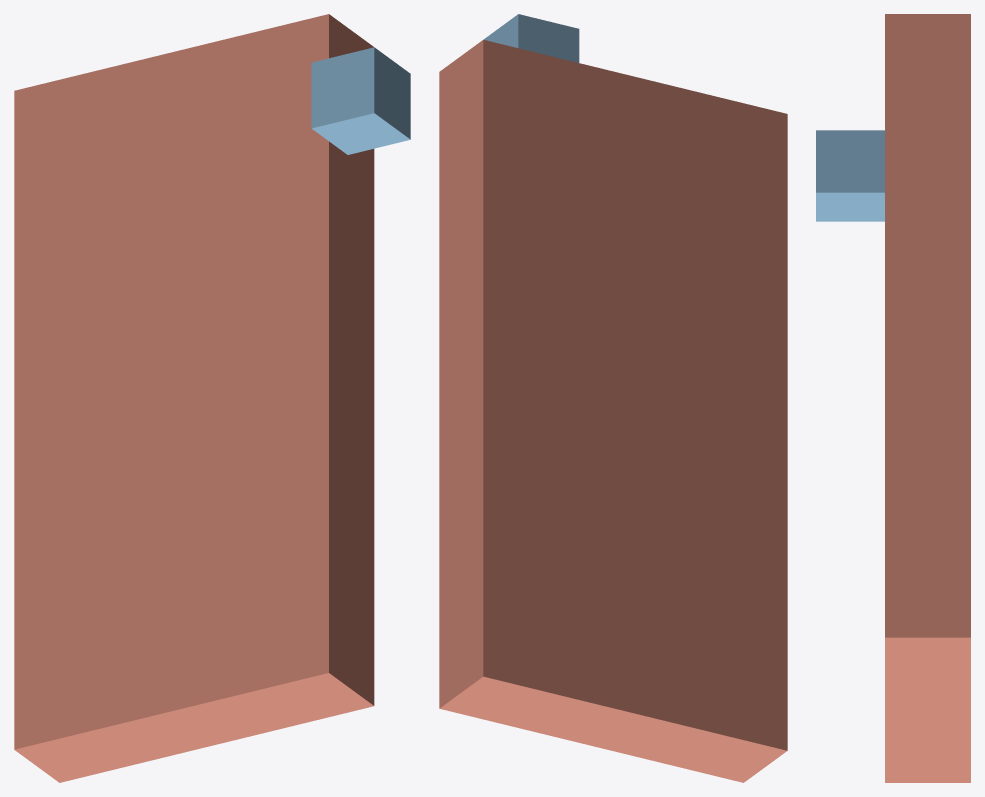
Rendered from asymmetric-post.glb.
The picture shows the model from 3 angles, left to right: view 1: azimuth 30°, elevation 25°; view 2: azimuth 150°, elevation 25°; view 3: azimuth 270°, elevation 25°; orthographic projection. The views are drawn at different scales.
Parts seen in each view (by area): view 1: Block body, Corner tab; view 2: Block body, Corner tab; view 3: Block body, Corner tab.
Boxes of the visible parts, bbox=[...] form: Block body: bbox=[14, 14, 374, 782]; Corner tab: bbox=[311, 47, 410, 154]; Block body: bbox=[439, 39, 787, 782]; Corner tab: bbox=[483, 14, 579, 62]; Block body: bbox=[885, 14, 970, 782]; Corner tab: bbox=[816, 130, 884, 221].
Size of the model in its own units: 1 by 2 by 0.45.
